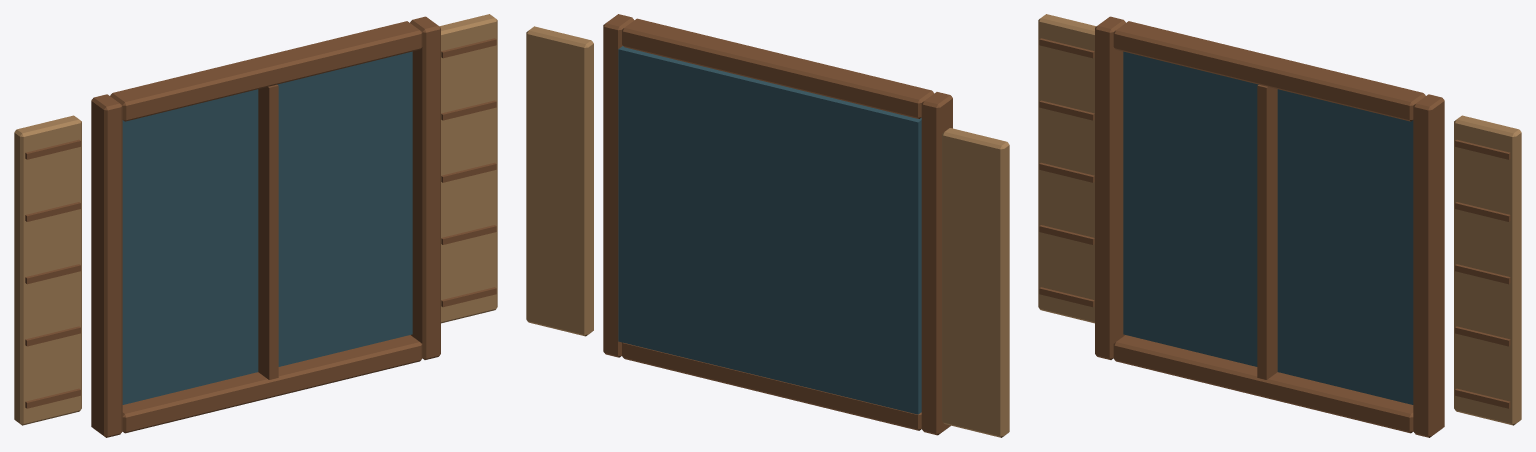
The model's file is window_06.glb.
3 renders of one model, left to right at view 1: azimuth 30°, elevation 25°; view 2: azimuth 150°, elevation 25°; view 3: azimuth 330°, elevation 25°, orthographic.
Visible parts, largest first — view 1: window_06; view 2: window_06; view 3: window_06.
Part boxes in pixels (<box>): window_06: <box>14,14,497,437</box>; window_06: <box>526,14,1009,437</box>; window_06: <box>1038,14,1521,437</box>.
Bounding box in the file's own units: 2.31 × 1.53 × 0.185.
